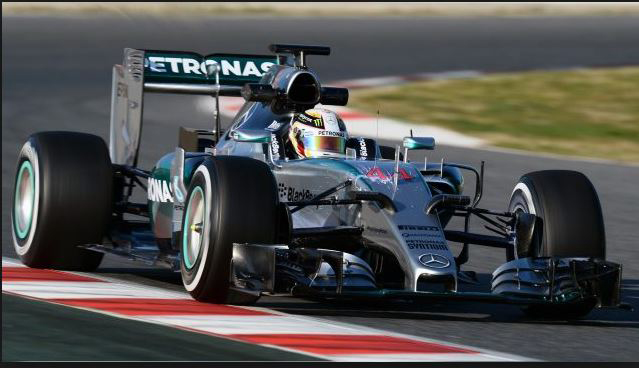F1 Car: (9, 37, 631, 321)
